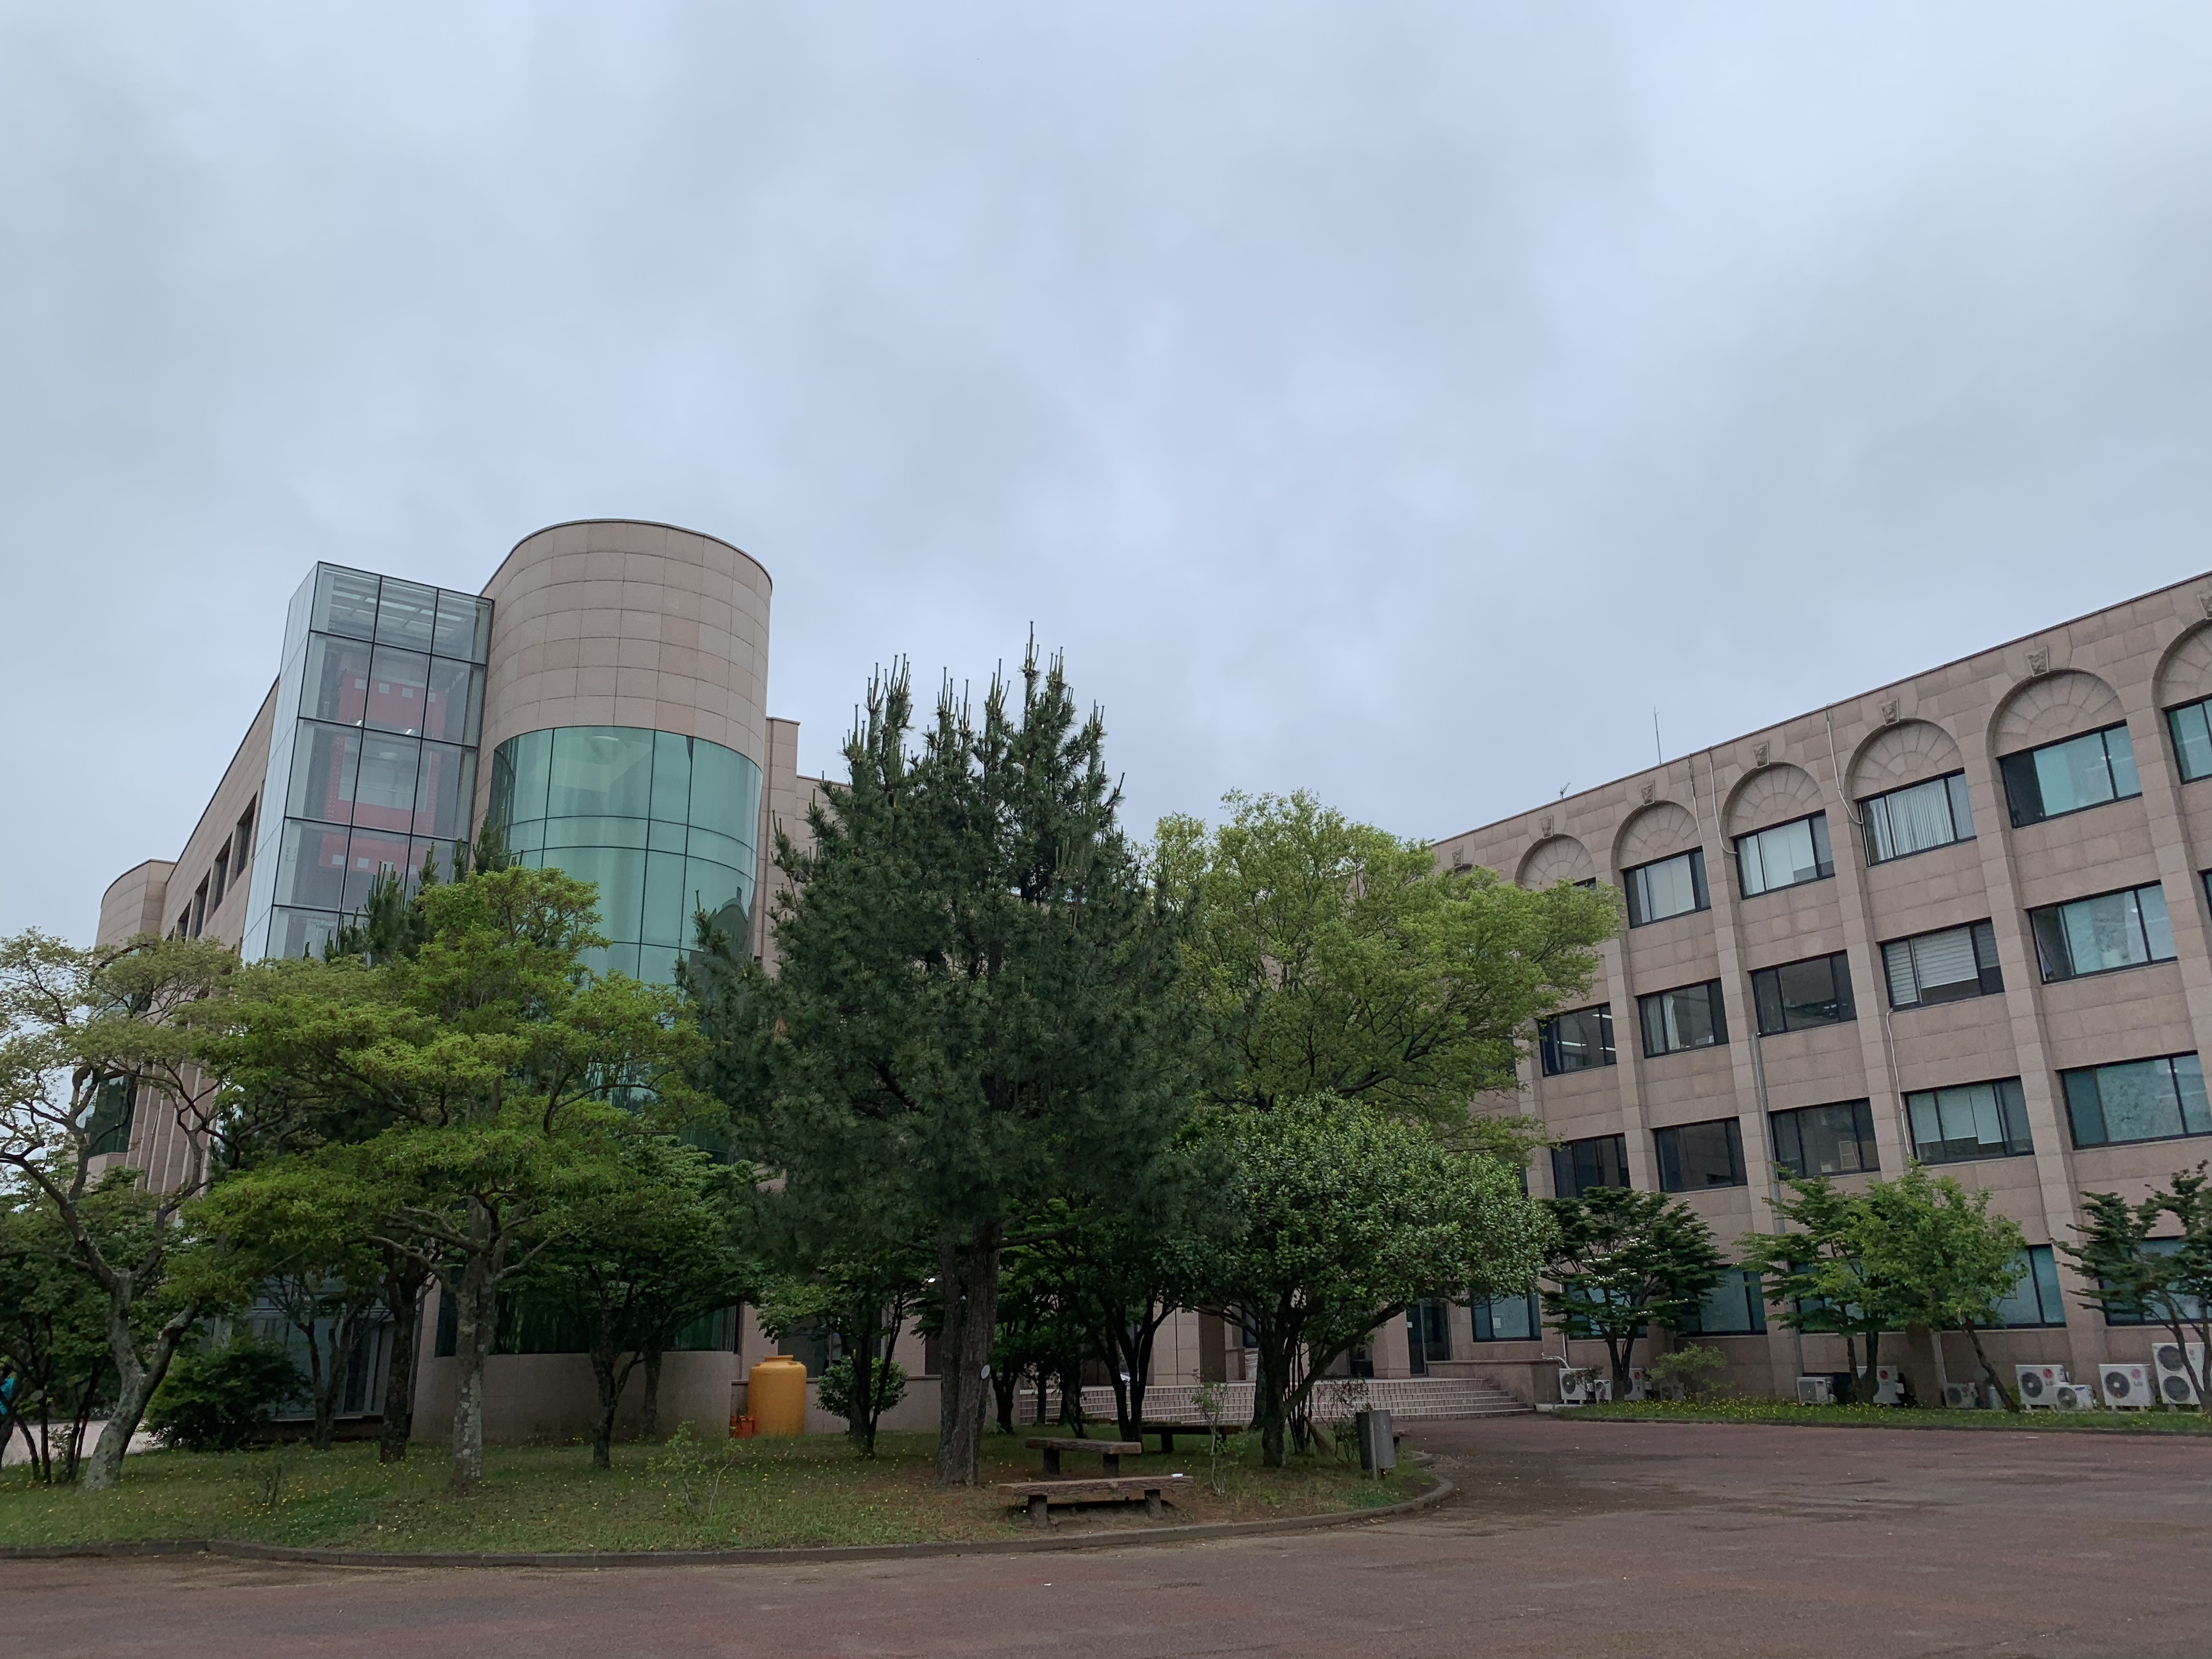Joint Experimental Labs: (99, 507, 822, 986)
Natural Science2: (1460, 610, 2209, 1438)
